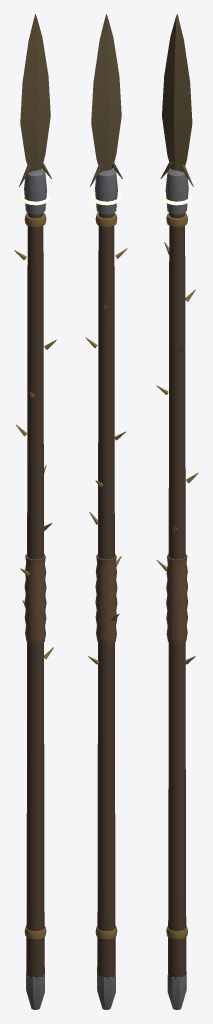
The model's file is fa_thornwake.glb.
3 views of the same model, side by side, from view 1: azimuth 30°, elevation 25°; view 2: azimuth 210°, elevation 25°; view 3: azimuth 330°, elevation 25° (orthographic).
Parts seen in each view (by area): view 1: fa_thornwake; view 2: fa_thornwake; view 3: fa_thornwake.
Part boxes in pixels (x1=…): fa_thornwake: x1=14, y1=14, x2=56, y2=1009; fa_thornwake: x1=85, y1=14, x2=127, y2=1009; fa_thornwake: x1=156, y1=14, x2=198, y2=1009.
Bounding box in the file's own units: 0.0895 × 2.33 × 0.0873.
